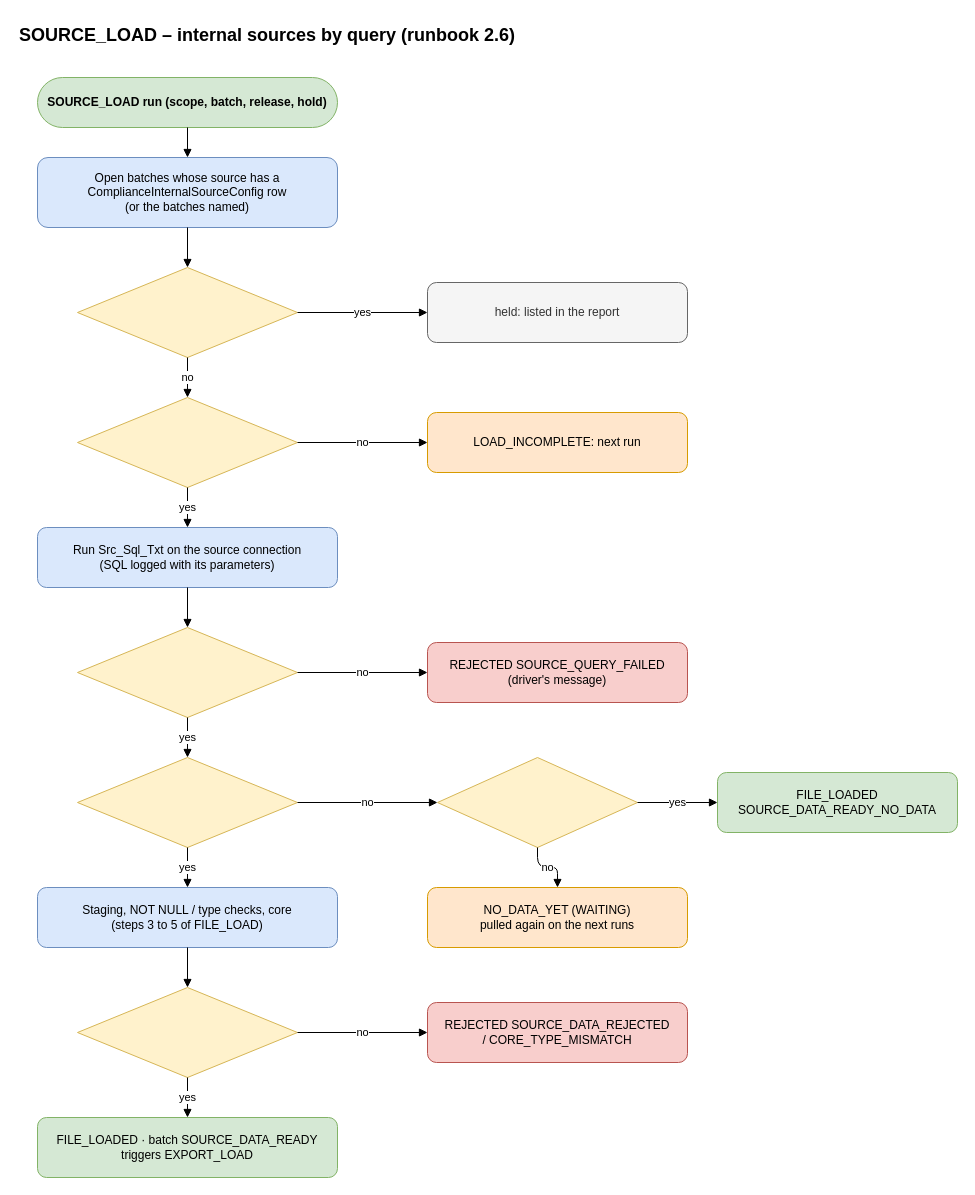
Some shapes in this 975 by 1195 pixel diagram are drawn without their labels. The centre of each missing label's shape, as x and y in pixels:
"Columns fit staging and core?" goes at point (187, 1032).
"On / after the close date?" goes at point (537, 802).
"Query ran?" goes at point (187, 672).
"Rows returned?" goes at point (187, 802).
"Run type held?" goes at point (187, 312).
"Staging table free?" goes at point (187, 442).
